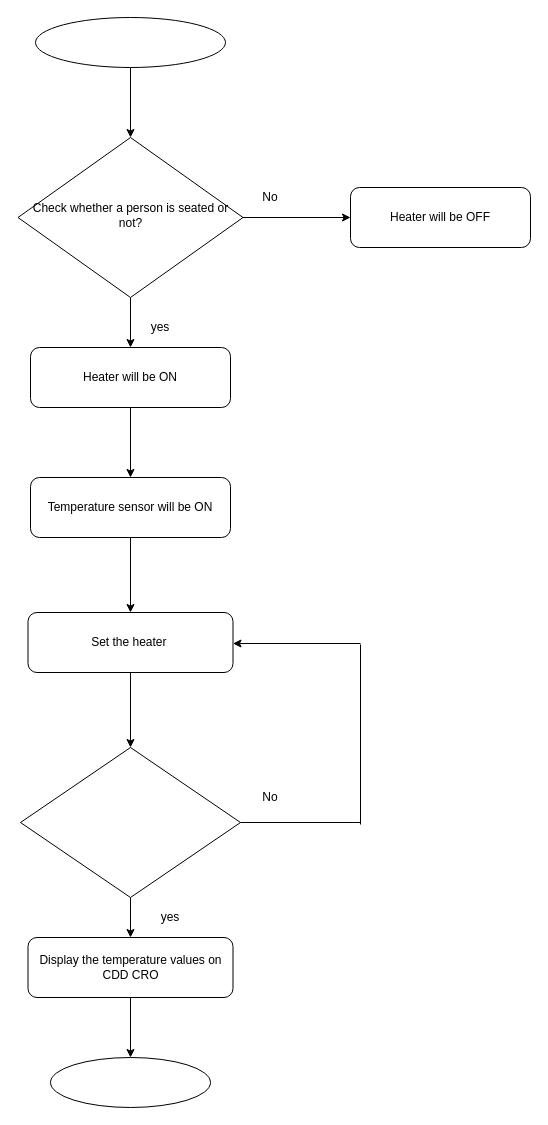
This 548x1125 diagram has some shape labels left out. The shapes that lost their labels are listed below. From the top down, each one's centre as x and y in pixels, then its label:
At point (130, 42): "Start".
At point (130, 822): "Check if user temperature = heater temp?".
At point (130, 1082): "Stop".
